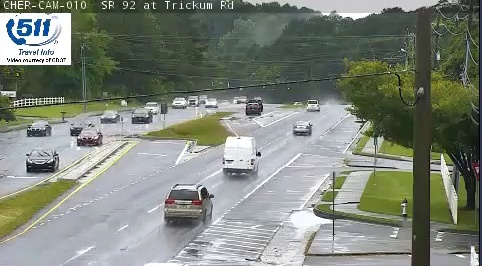car: (165, 186, 212, 217), (294, 122, 311, 134), (306, 100, 318, 111)
van: (223, 137, 258, 172)
